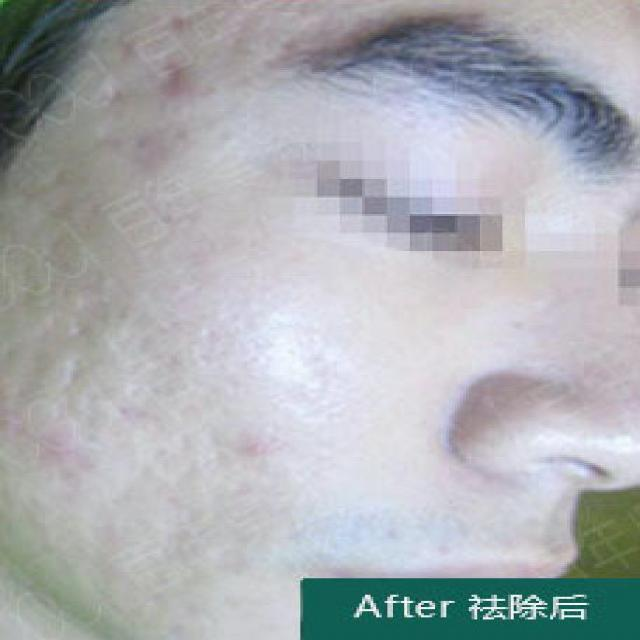comedone: (10, 412, 62, 470), (125, 117, 174, 178), (166, 48, 214, 103)
